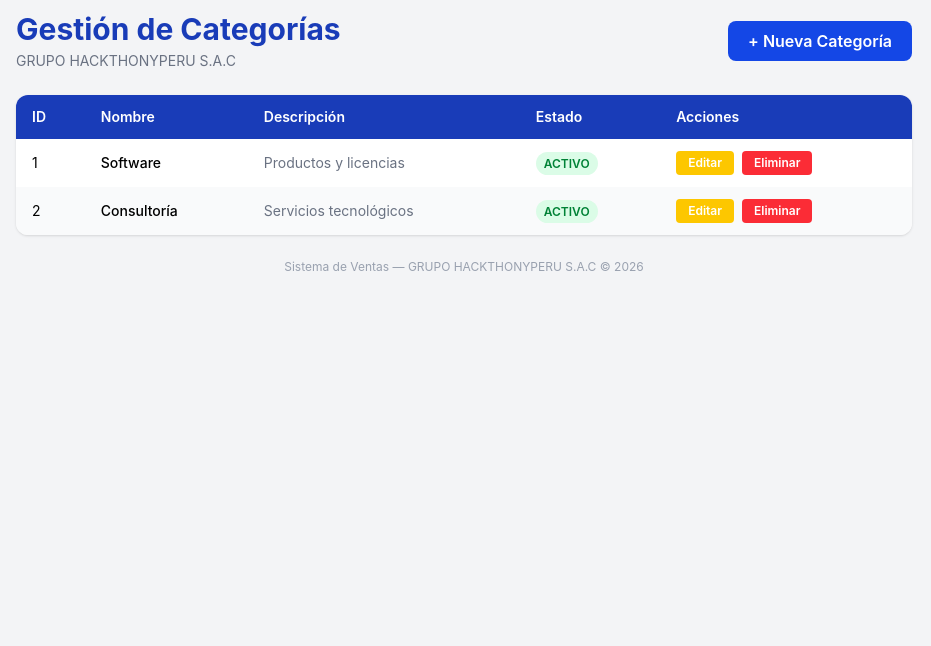
Test: Componente Categorias - Pruebas Unitarias › Debe permitir crear una nueva categoría
Click the button "+ Nueva Categoría": (820, 41) [728,21,912,61]
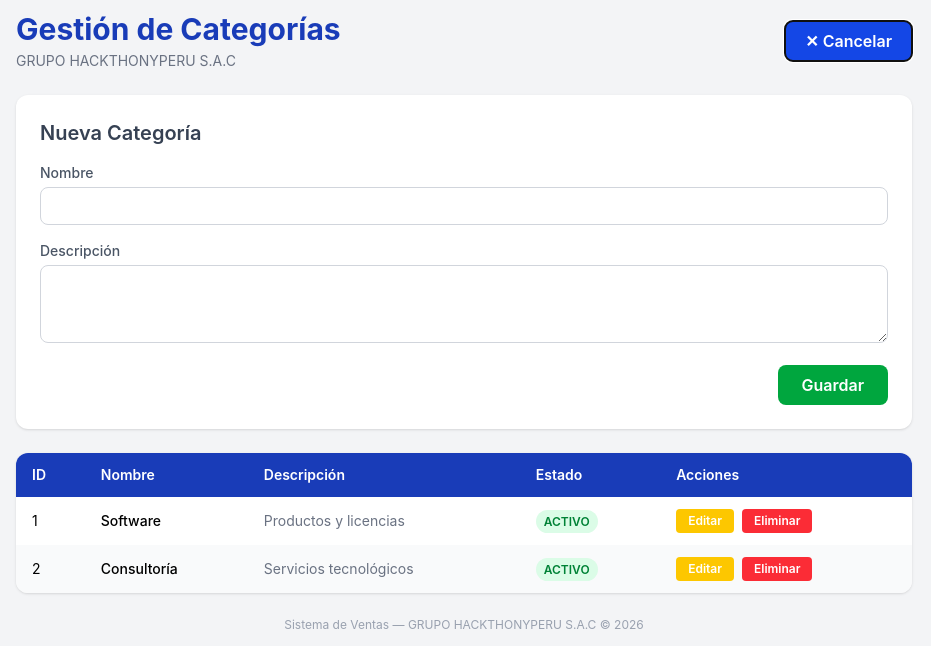
In the field named "nombre": (464, 206) [40,187,888,225], type "Hardware"
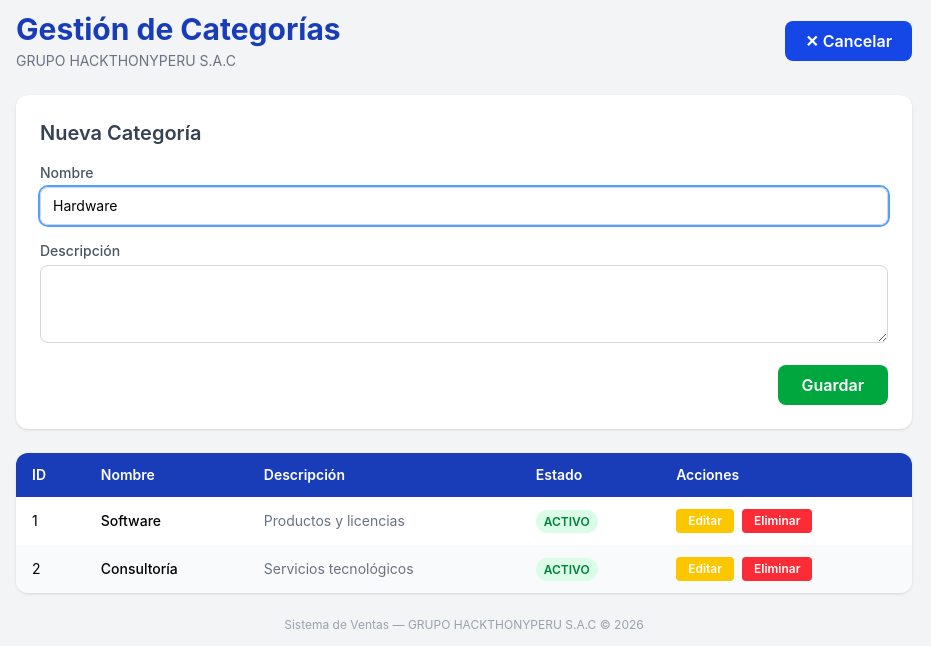
Click the button "Guardar": (833, 385) [778,365,888,405]
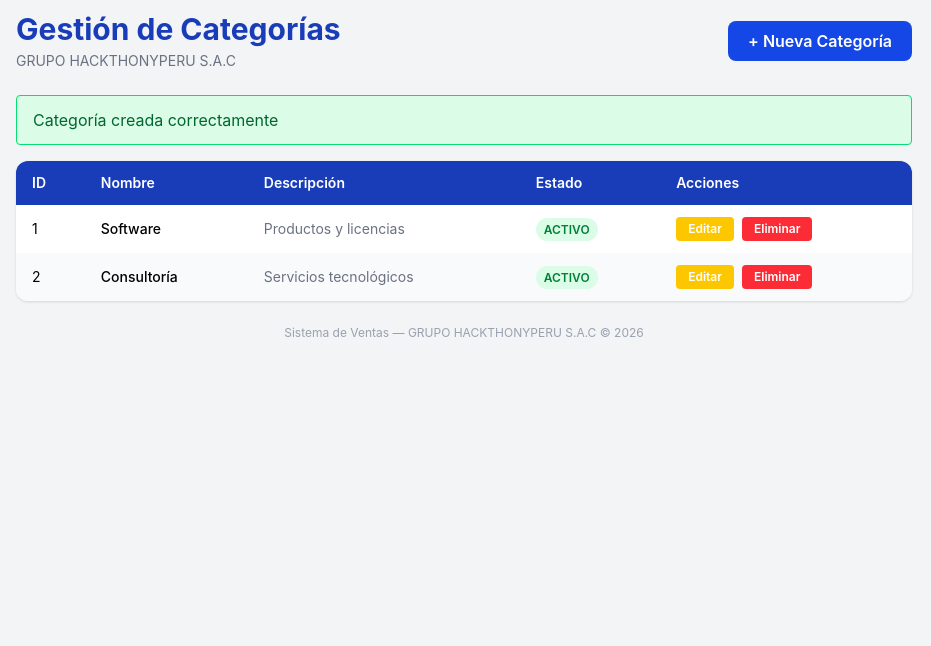
Check: the text "Categoría creada correctamente" is shown, box [16,95,912,145]
